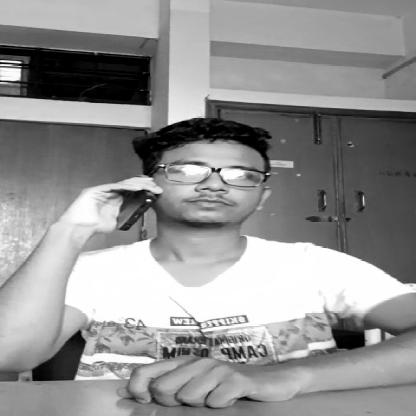Normal: (159, 130, 278, 220)
